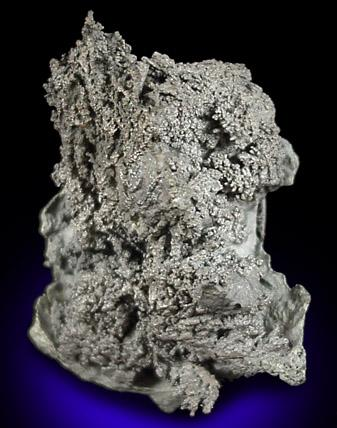silver: (41, 14, 309, 414)
